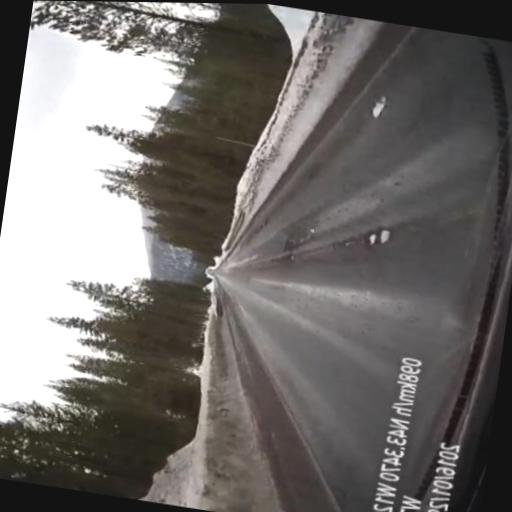pothole: (370, 94, 389, 118), (379, 227, 393, 244), (367, 232, 377, 246)
